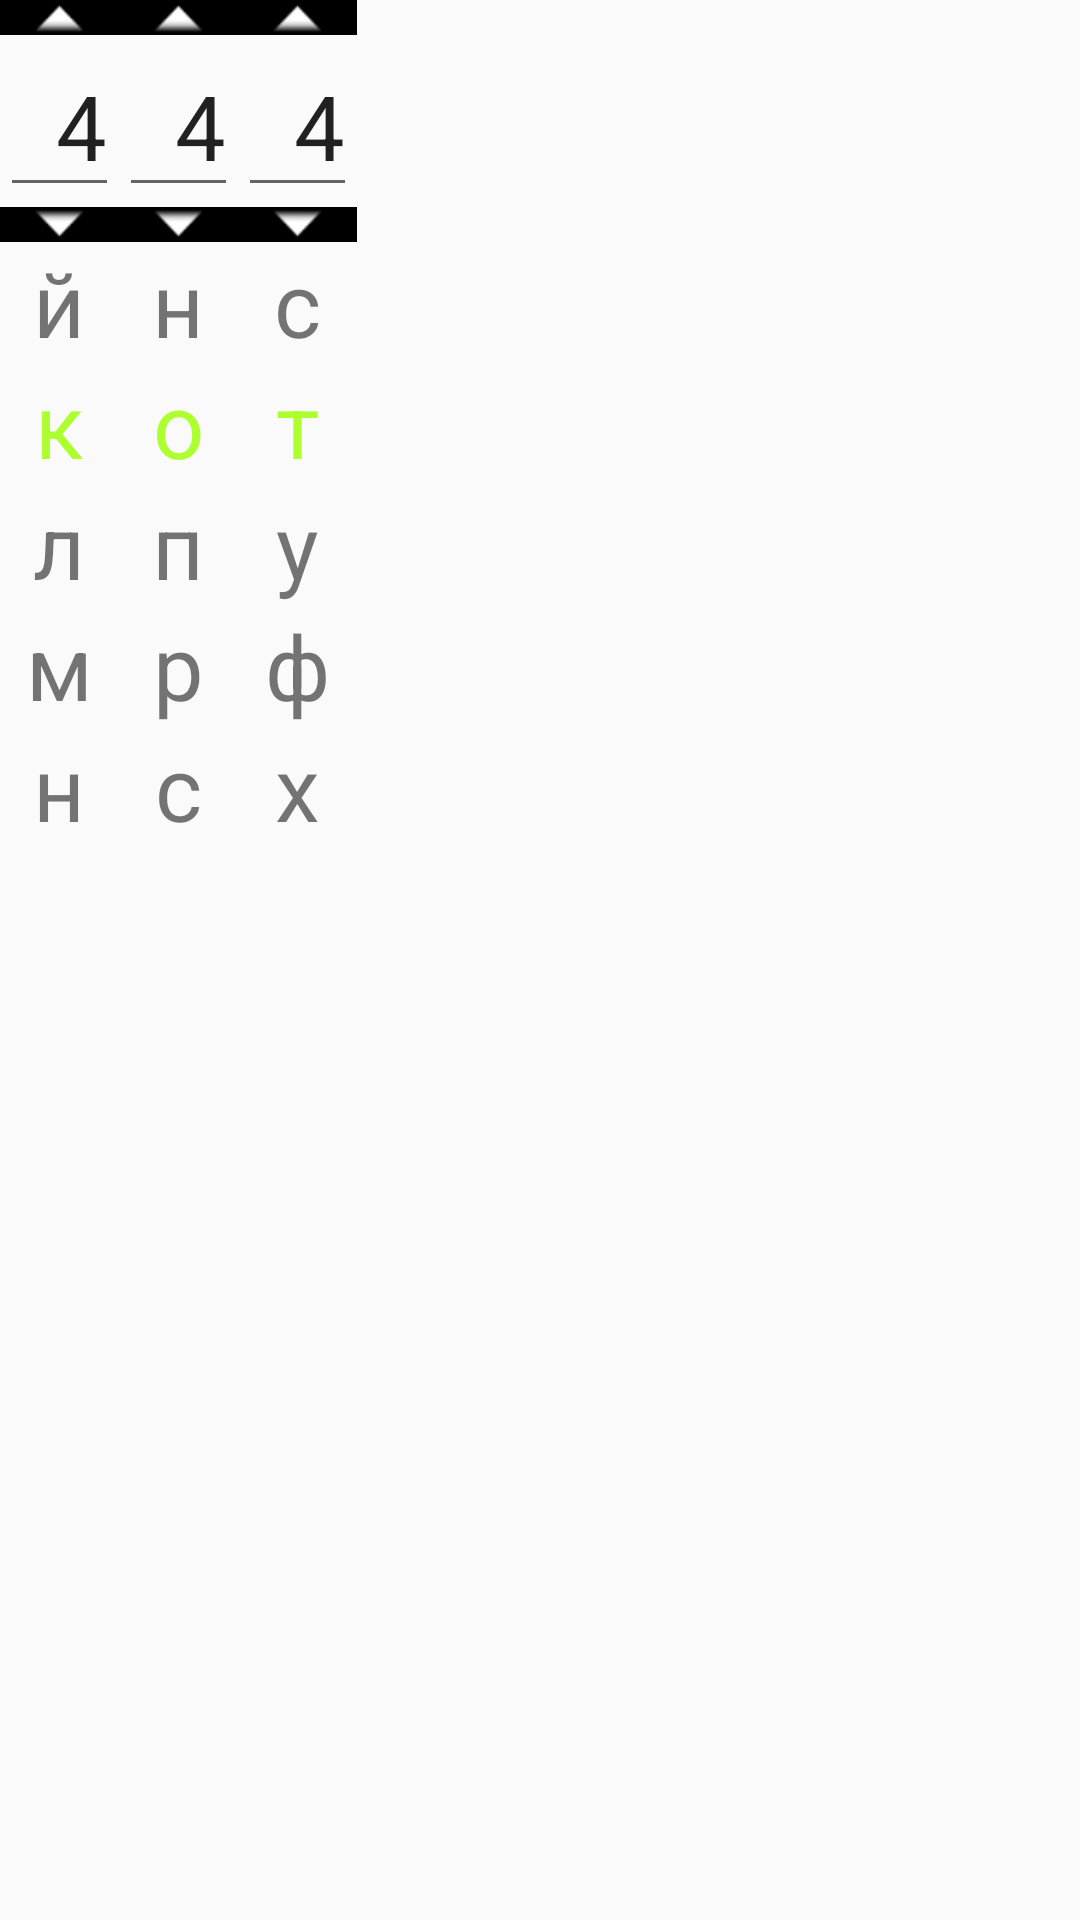

Screen size 1080px×1920px. Icon name, then its box in pixels as [x1,y1,x2,y2]:
arrow down float: [0,207,119,242], [119,207,238,242], [238,207,357,242]
arrow up float: [0,0,119,35], [238,0,357,35], [155,5,202,31]
